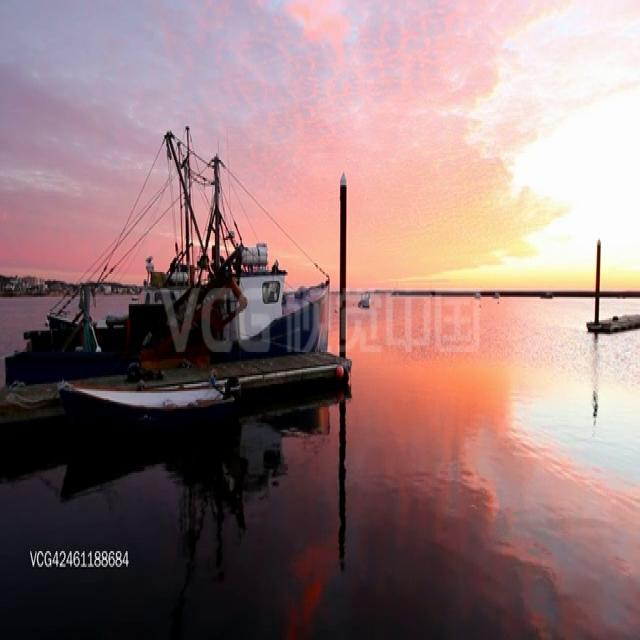fishing boat: (3, 125, 324, 380)
